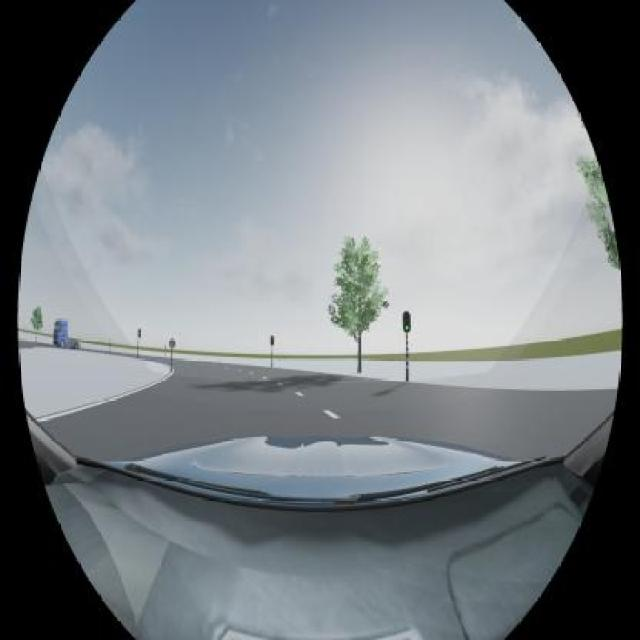forb_speed_over_70: (170, 339, 176, 348)
